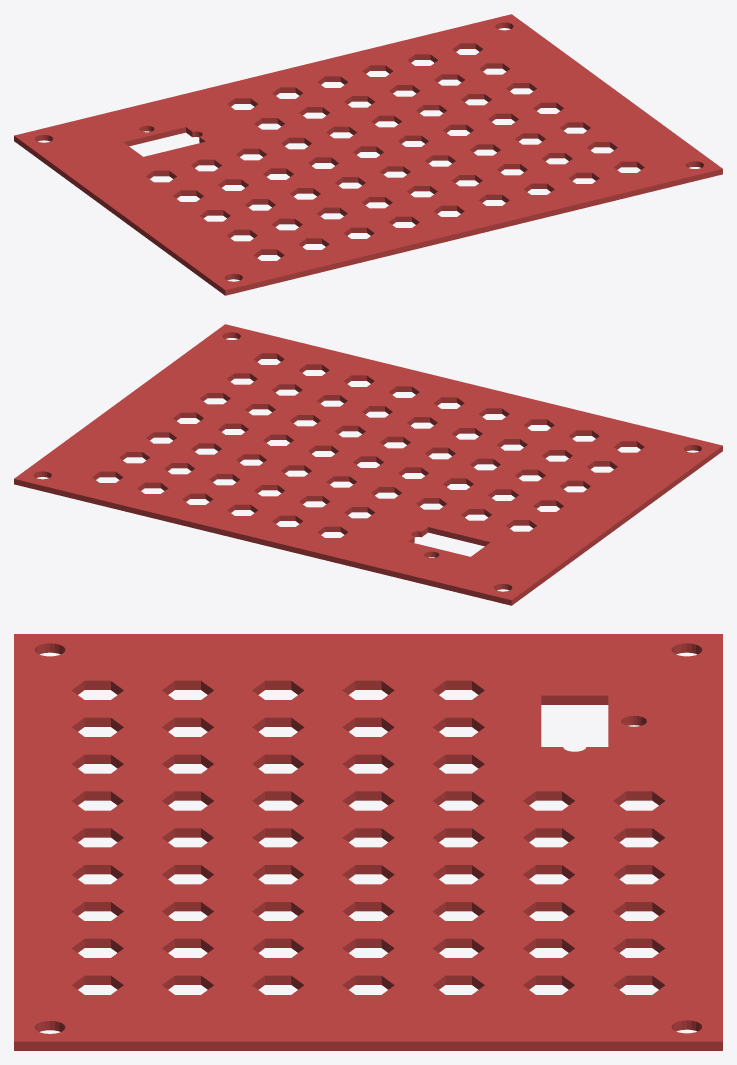
Rendered from CaixaTapa.glb.
The picture shows the model from 3 angles, top to bottom: view 1: azimuth 30°, elevation 25°; view 2: azimuth 150°, elevation 25°; view 3: azimuth 270°, elevation 25°; orthographic projection. The views are drawn at different scales.
Parts seen in each view (by area): view 1: Mesh_0.001; view 2: Mesh_0.001; view 3: Mesh_0.001.
Part boxes in pixels (box(x1,y1,x2,y2)): Mesh_0.001: box(14, 14, 722, 295); Mesh_0.001: box(14, 324, 722, 605); Mesh_0.001: box(14, 634, 722, 1050).
Size of the model in its own units: 187 by 2 by 137.
